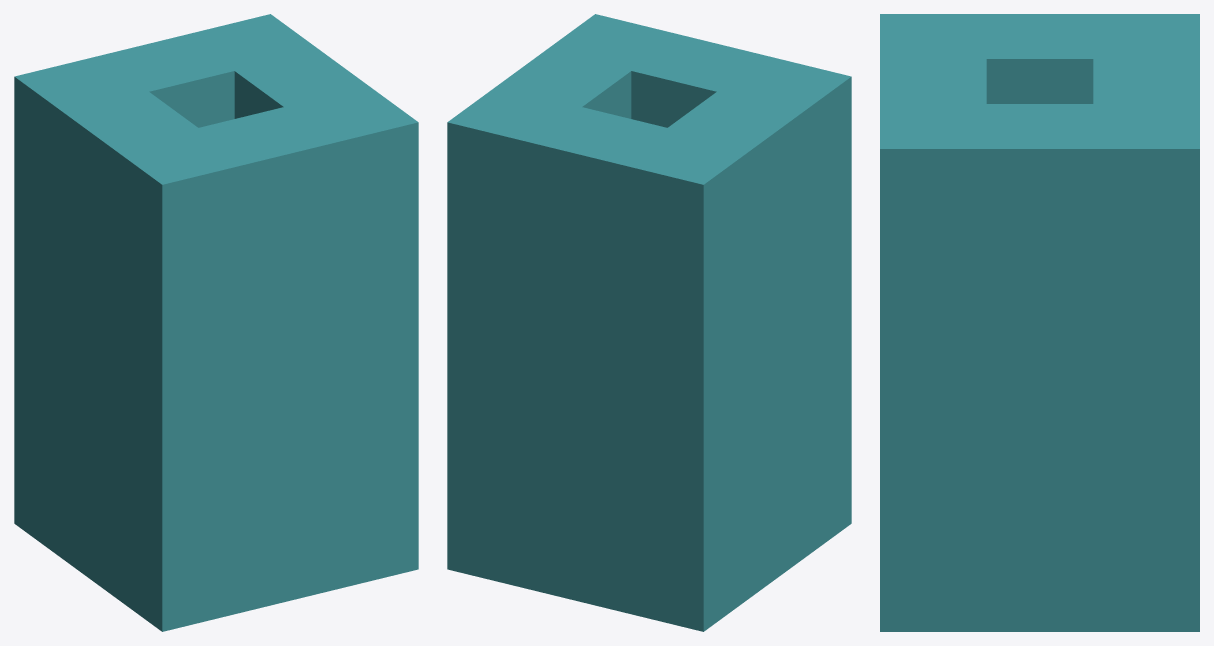
File: PintGlass.obj
3 views of the same model, side by side, from view 1: azimuth 30°, elevation 25°; view 2: azimuth 150°, elevation 25°; view 3: azimuth 270°, elevation 25° (orthographic). The views are drawn at different scales.
Size of the model in its own units: 3 by 5 by 3.
Materials: 1 (1 with a texture image).
